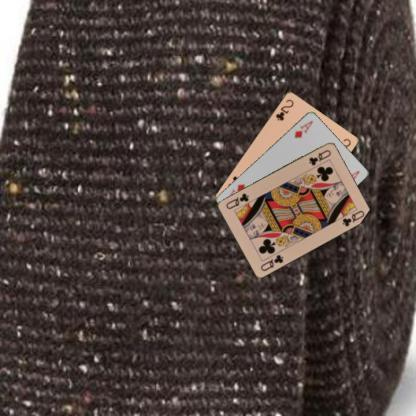2c: (272, 96, 294, 122)
Ad: (292, 118, 314, 139)
Qc: (258, 252, 285, 272), (306, 147, 332, 166)
